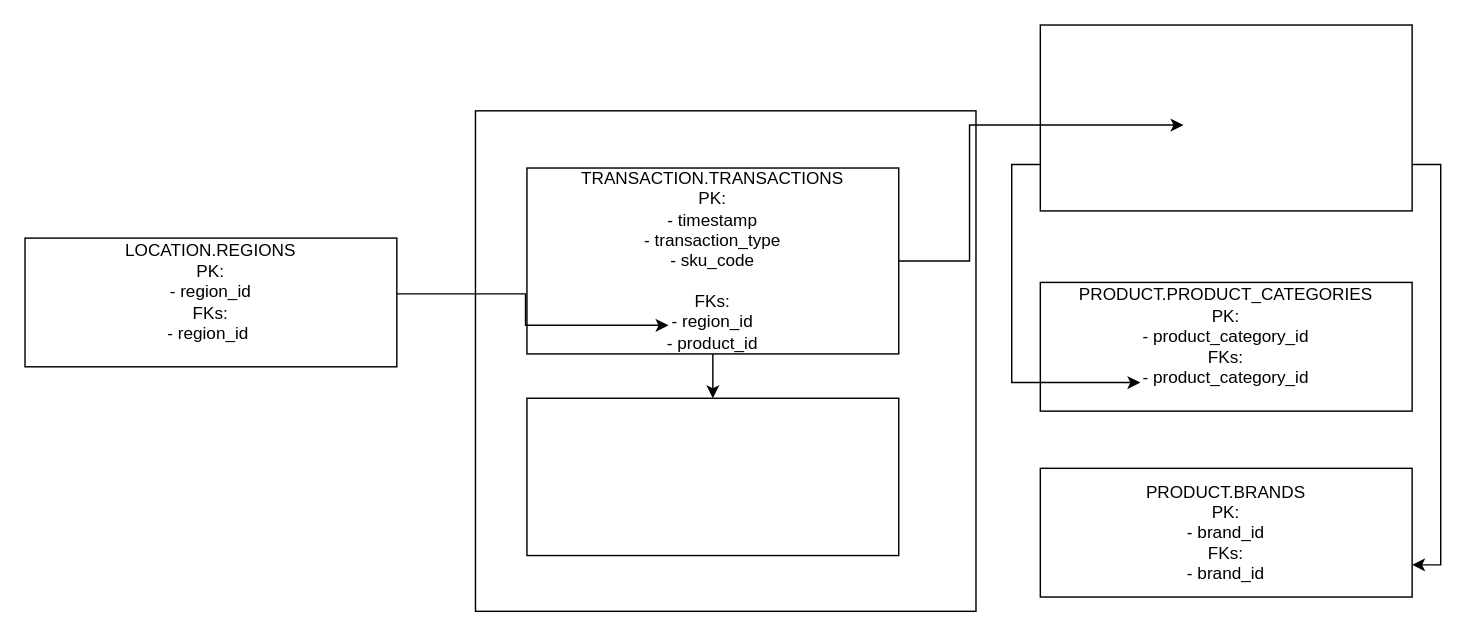
The diagram is 1477 pixels wide and 636 high, and some of its shapes have lost their labels. The box of each missing label's shape, as (x1, y1, x2, y2) in pixels:
PRODUCT.PRODUCTS PK: - sku_code FKs: - sku_code - brand_id - product_category_id: (1039, 24, 1412, 211)
TRANSACTION.AGG_TRANSACTIONS PK: - txn_date - sku_code: (526, 397, 899, 556)
